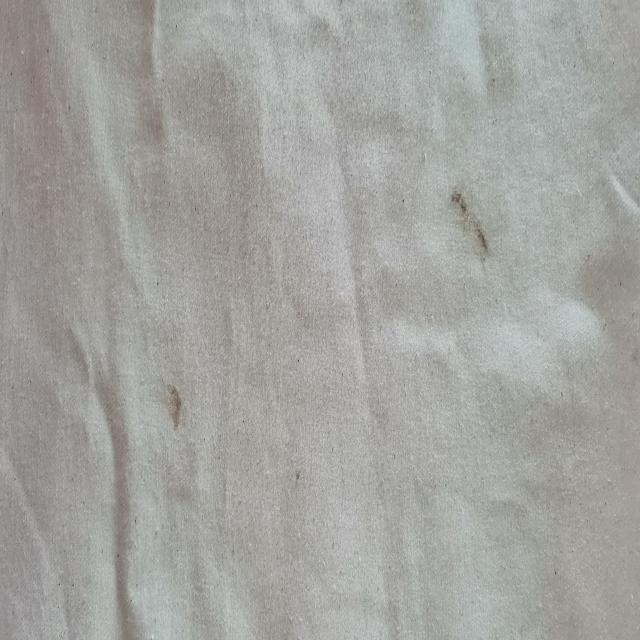taaaches: (446, 166, 492, 273), (165, 376, 187, 448)
